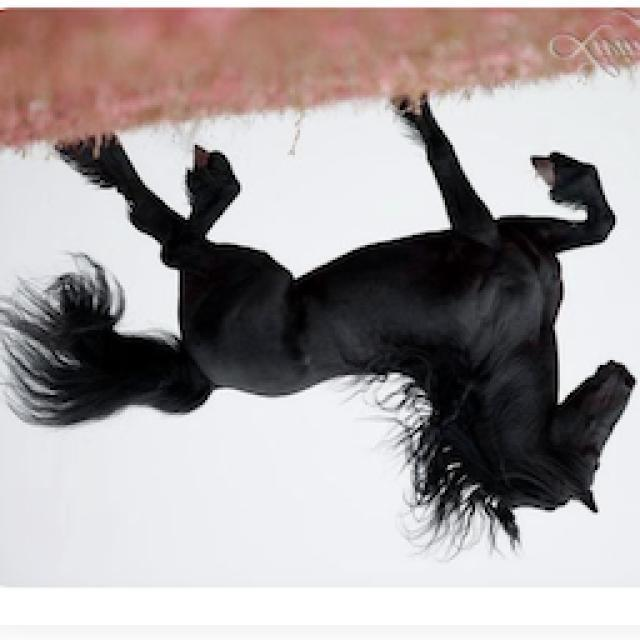Horse: (0, 88, 638, 562)
